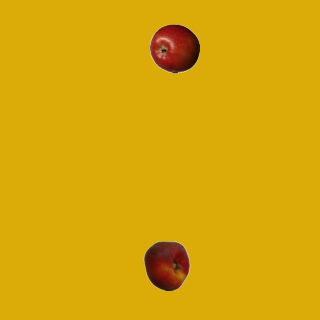Apple Braeburn: (149, 23, 199, 73)
Nectarine Flat: (141, 240, 191, 290)
